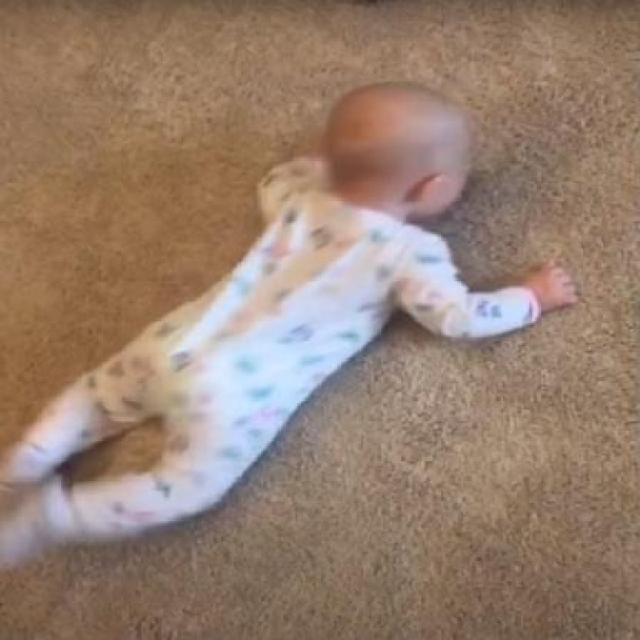baby: (3, 78, 579, 551)
